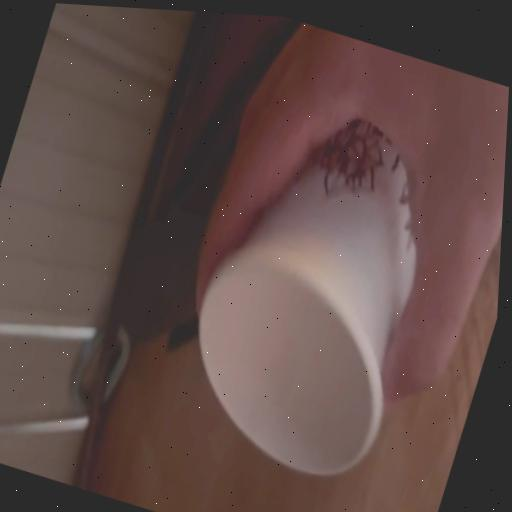Ly_giay: (200, 120, 416, 474)
